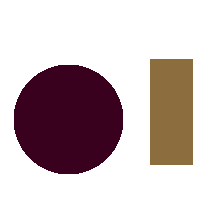circle: (14, 65, 122, 173)
rectangle: (150, 59, 192, 164)
